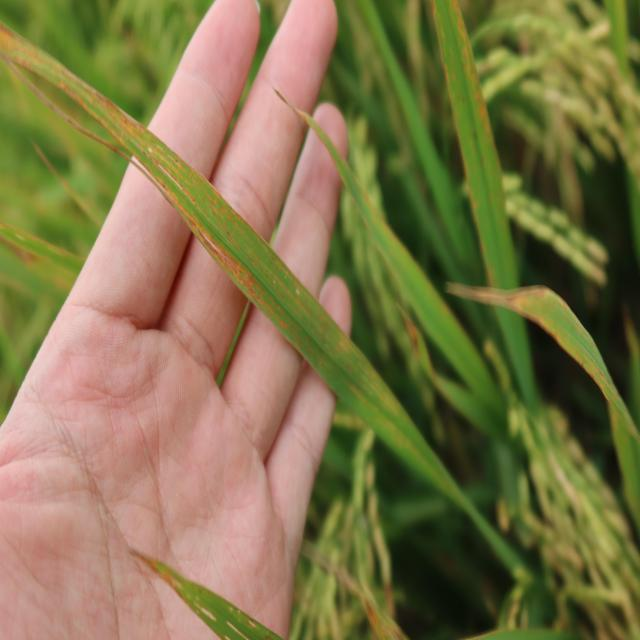Dom soc vi khuan: (170, 154, 307, 300), (8, 36, 165, 163), (160, 177, 280, 314), (455, 1, 492, 136), (432, 0, 440, 20), (445, 61, 450, 88), (441, 24, 446, 44)
